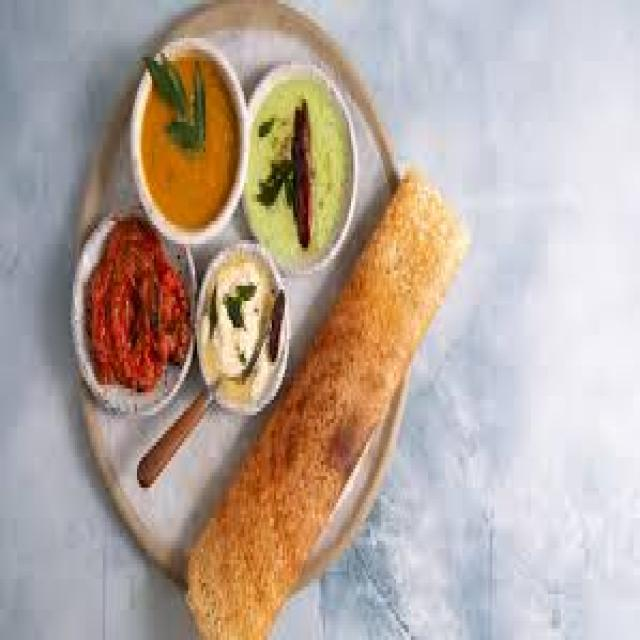DOSA: (186, 171, 462, 636)
